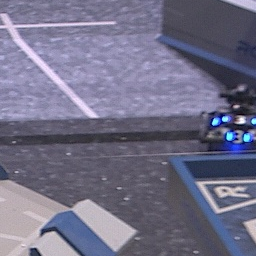Blue: (222, 113, 256, 127), (225, 130, 250, 143)
Robot: (198, 83, 256, 154)
